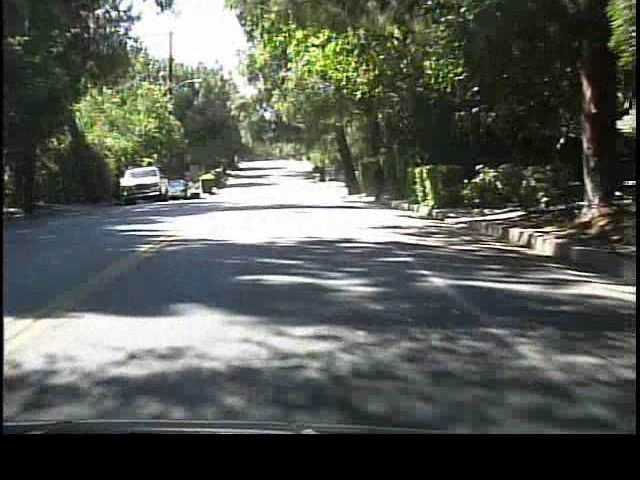person: (370, 155, 388, 206)
